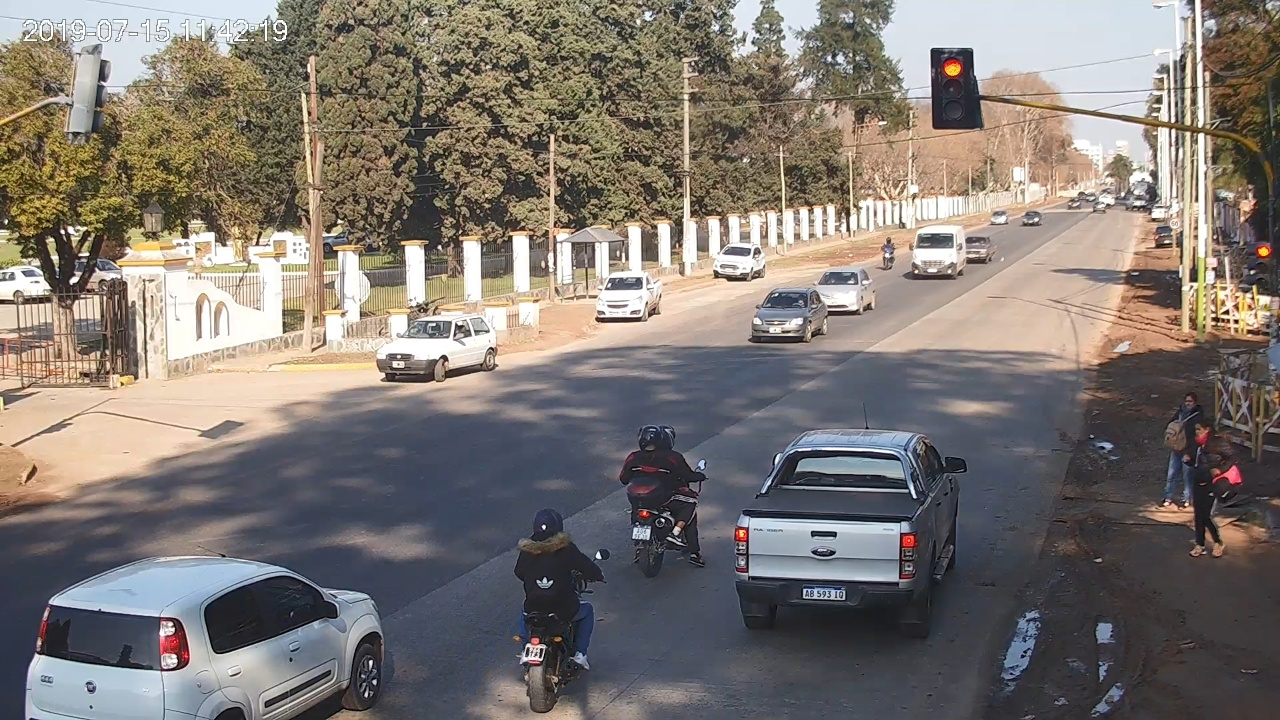car: (25, 556, 384, 720), (734, 430, 968, 640)
motorcycle: (513, 547, 610, 713), (619, 458, 709, 578)
traffic light: (940, 55, 965, 121), (1256, 242, 1271, 289)
